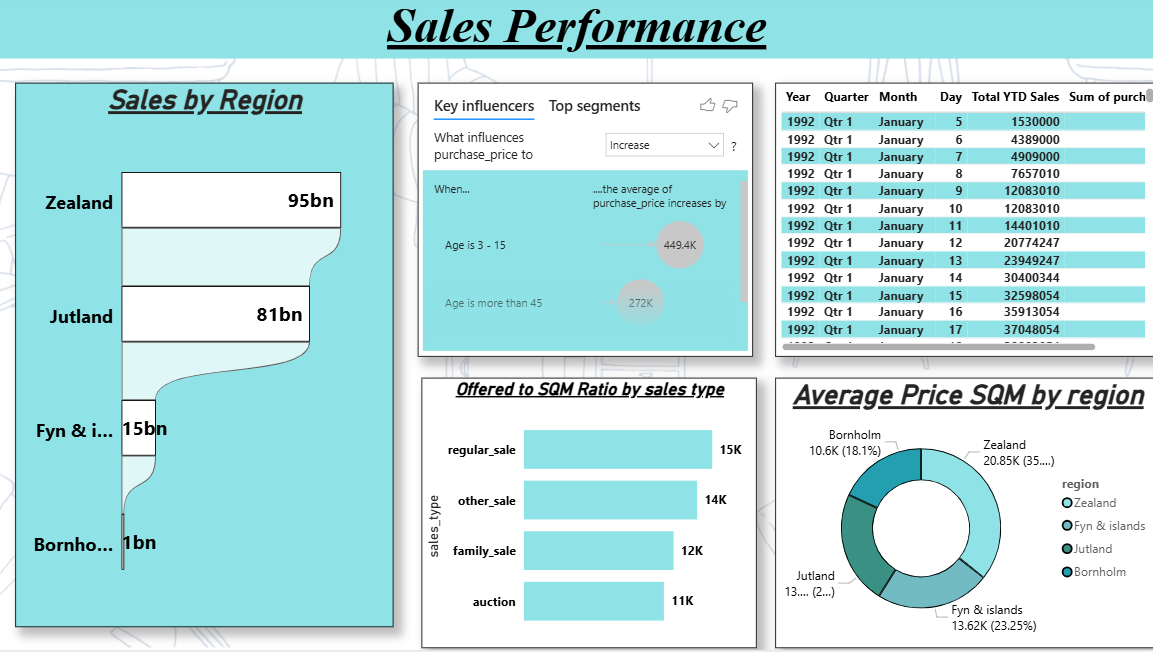

Layout of this report page (visuals, bound fields, positions):
{"tool":"powerbi","page":{"name":"Sales Performance","canvas":[1280,720],"ordinal":1},"visuals":[{"type":"shape","box":[0,0,1279.4,70.9],"z":0},{"type":"barChart","title":"Sales by Region ","fields":{"Y":["measure table 1.Sales by Region"],"Category":["Housing Data.region"]},"box":[23.6,97.9,415.2,597.5],"z":1000},{"type":"tableEx","fields":{"Values":["Housing Data.date.Variation.Date Hierarchy.Year","Housing Data.date.Variation.Date Hierarchy.Quarter","Housing Data.date.Variation.Date Hierarchy.Month","Housing Data.date.Variation.Date Hierarchy.Day","measure table 1.Total YTD Sales","Sum(Housing Data.purchase_price)"]},"box":[857.4,97.9,422,300.4],"z":2000},{"type":"donutChart","fields":{"Category":["Housing Data.region"],"Y":["measure table 1.Average Price SQM"]},"box":[857.4,422,422,297.1],"z":3000},{"type":"keyDriversVisual","fields":{"Target":["Housing Data.purchase_price"],"ExplainBy":["Housing Data.Age"]},"box":[465.8,97.9,367.9,300.4],"z":4000},{"type":"barChart","title":"Offered to SQM Ratio by sales type","fields":{"Y":["measure table 1.Offered to SQM Ratio"],"Category":["Housing Data.sales_type"]},"box":[469.2,422,367.9,297.1],"z":5000}]}

Visuals, with their boxes in screenshot pixels (x1, y1, x2, y2), scaled from the page's 1280x720 canvas onto the 1153x652 screenshot:
shape: [0,0,1152,64]
"Sales by Region " barChart: [21,89,395,630]
tableEx - Housing Data.date.Variation.Date Hierarchy.Year x Housing Data.date.Variation.Date Hierarchy.Quarter: [772,89,1152,361]
donutChart - Housing Data.region x measure table 1.Average Price SQM: [772,382,1152,651]
keyDriversVisual - Housing Data.purchase_price x Housing Data.Age: [420,89,751,361]
"Offered to SQM Ratio by sales type" barChart: [423,382,754,651]
